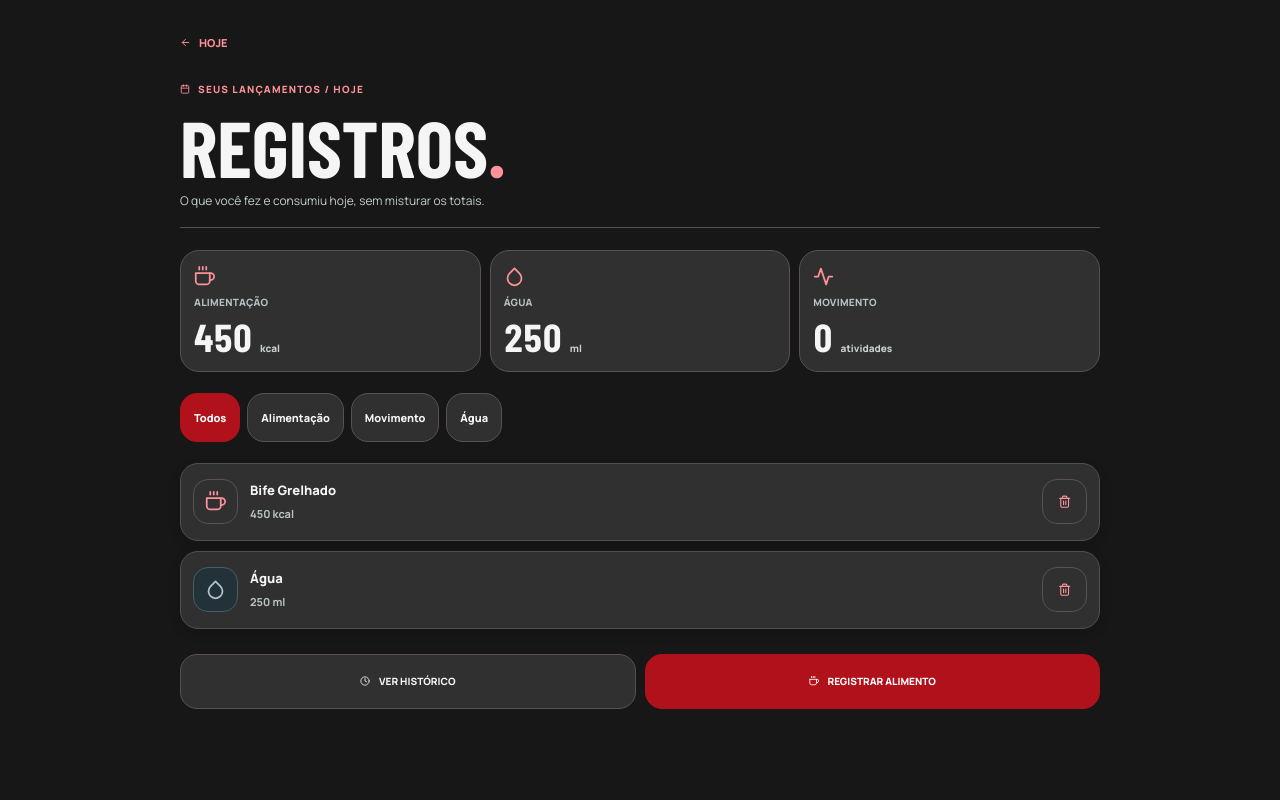
it: exclusão não ocorre antes de confirmação
Expected: the text "Bife Grelhado" is shown, [250,481,336,499]
Click the button named "remover bife grelhado" at (1064, 502), box [1042,479,1087,524]
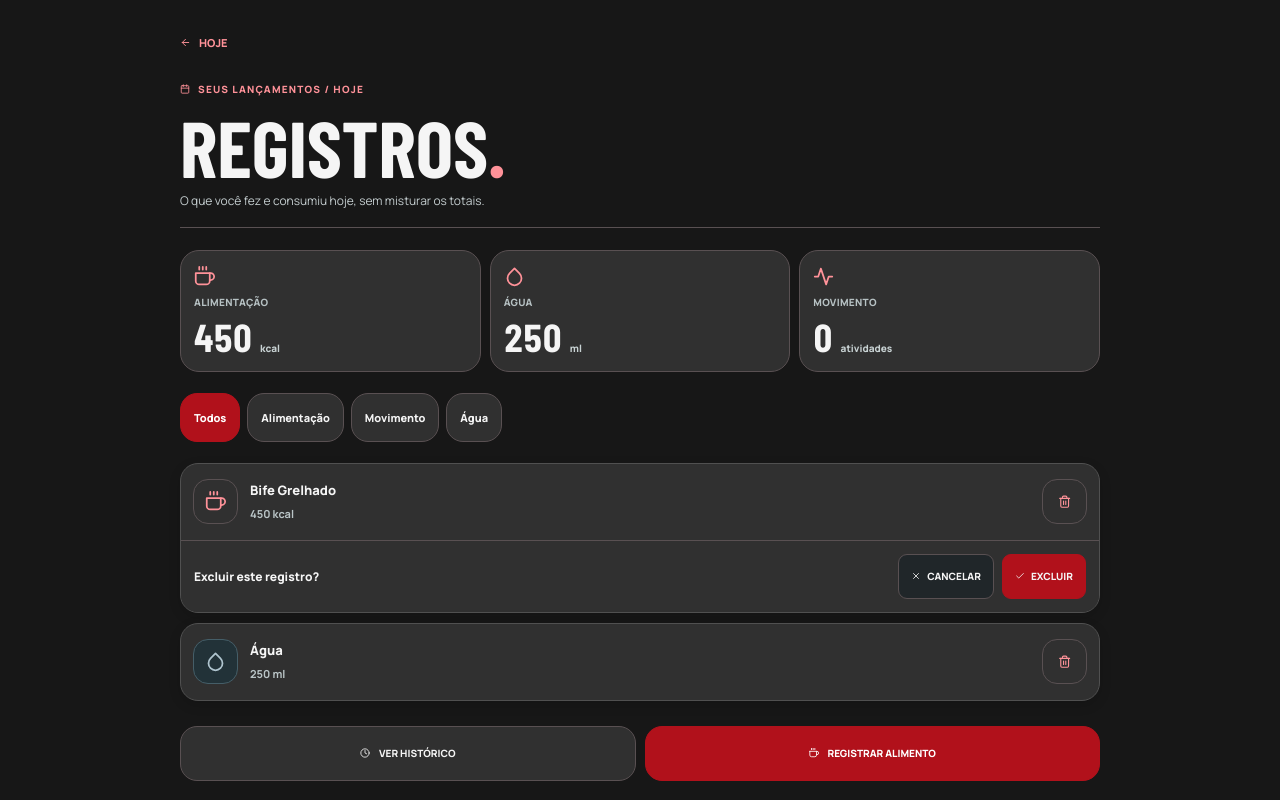
Click the button named "cancelar exclusão" at (946, 576), box [898,554,994,599]
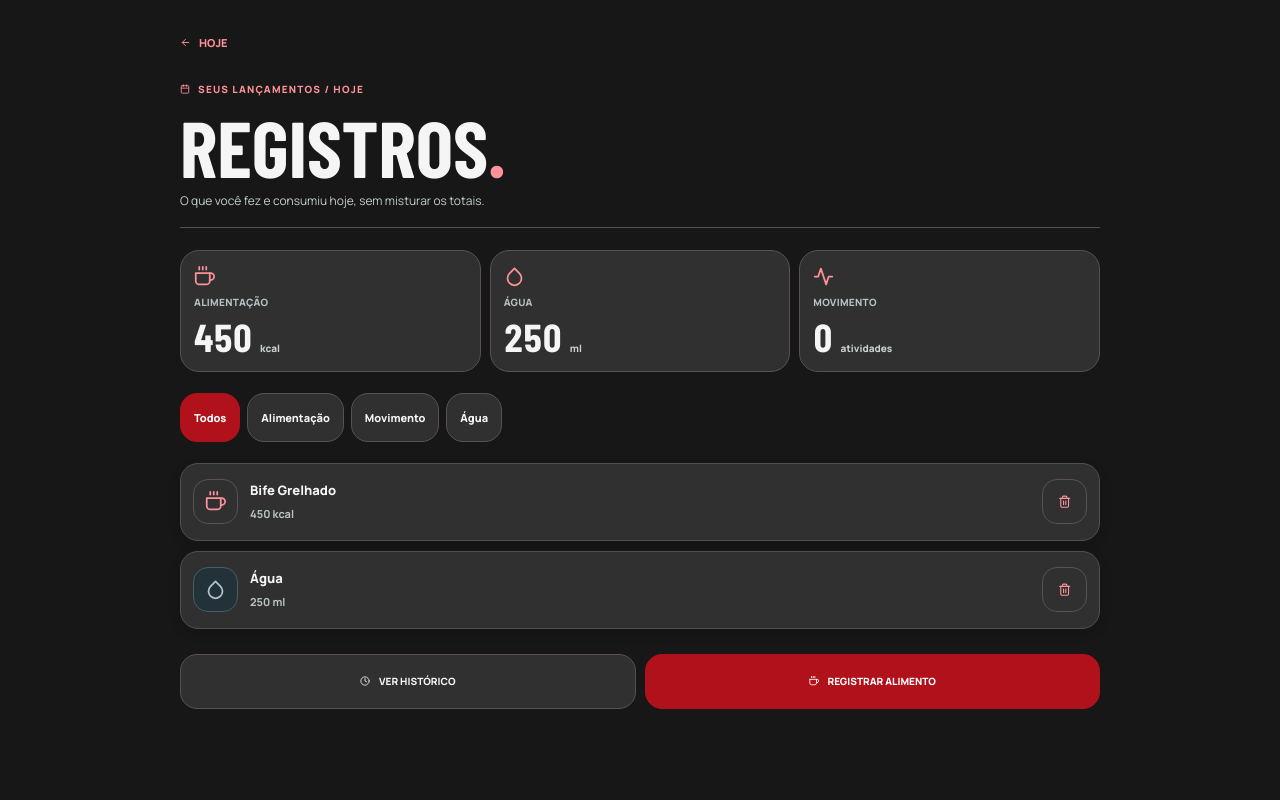
Click the button named "remover bife grelhado" at (1064, 502), box [1042,479,1087,524]
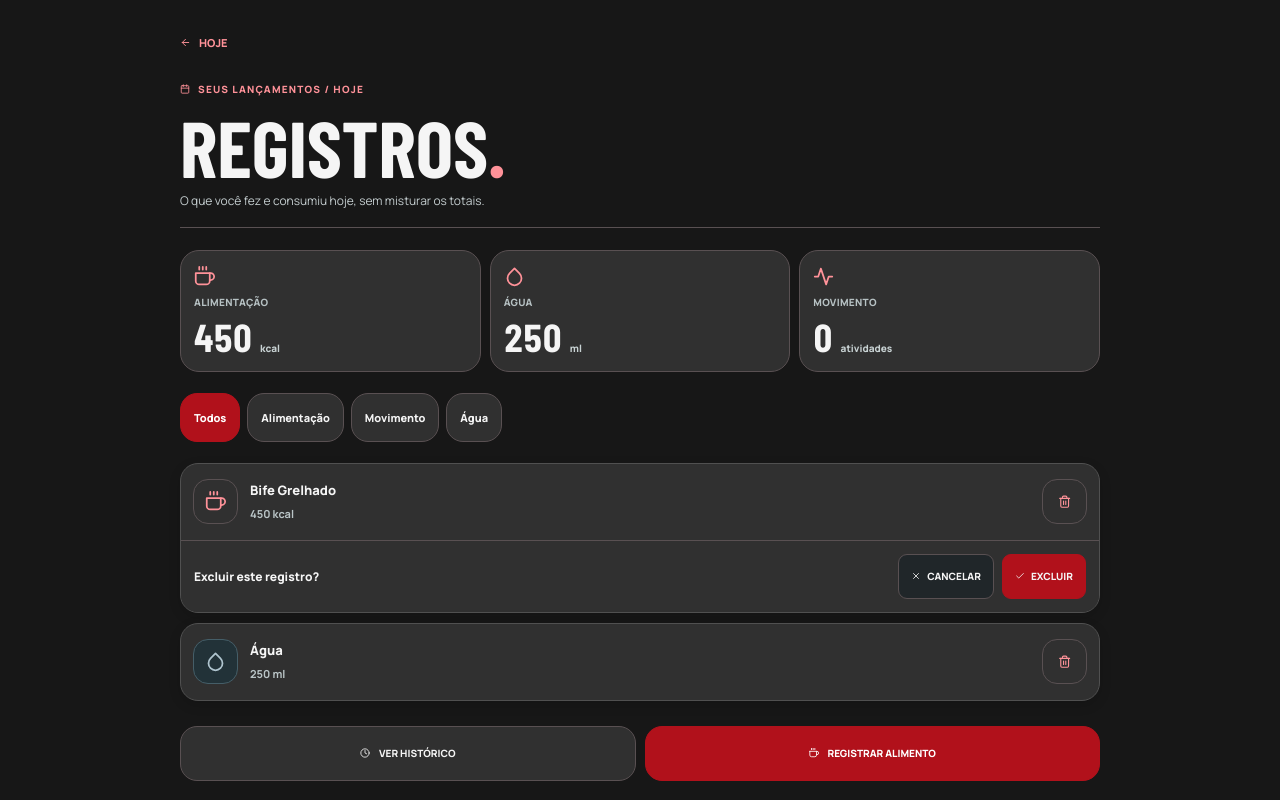
Click the button named "confirmar exclusão" at (1044, 576), box [1002,554,1086,599]
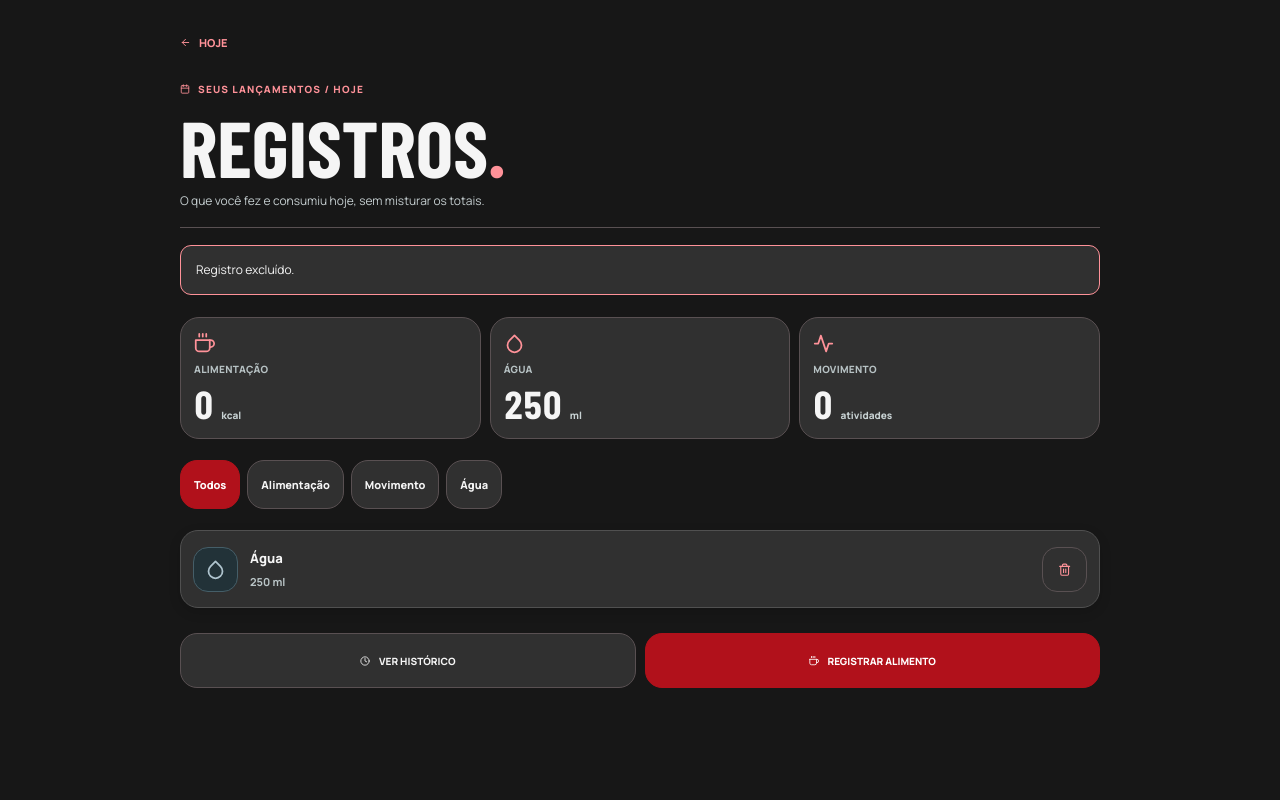
Expected: the text "Bife Grelhado" is gone
